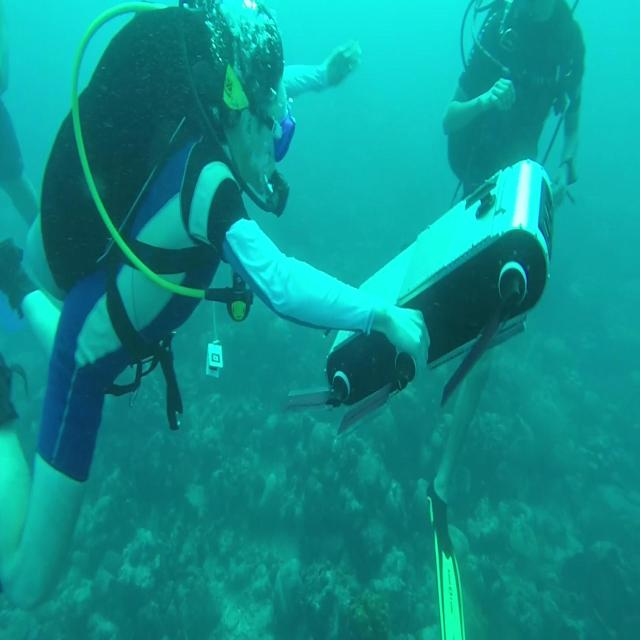human: (1, 1, 428, 612), (442, 0, 586, 206)
